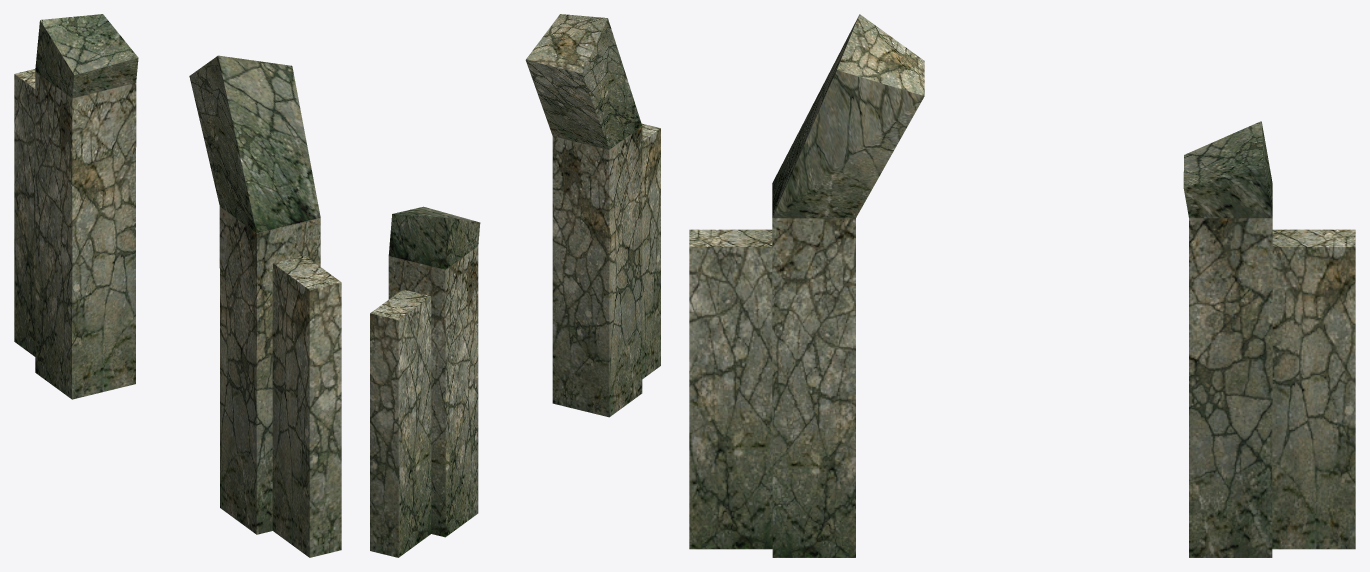
Rendered from thm_nboo_gungan_damaged_wide_arch_s01_l2.fbx.
The picture shows the model from 3 angles, left to right: view 1: azimuth 30°, elevation 25°; view 2: azimuth 150°, elevation 25°; view 3: azimuth 270°, elevation 25°; orthographic projection. The views are drawn at different scales.
Visible parts, largest first — view 1: mesh_node; view 2: mesh_node; view 3: mesh_node.
Boxes of the visible parts, x1,y1,x2,y2 form: mesh_node: (14, 14, 341, 557); mesh_node: (370, 14, 660, 557); mesh_node: (689, 14, 1355, 557).
Size of the model in its own units: 1 by 6.74 by 8.
